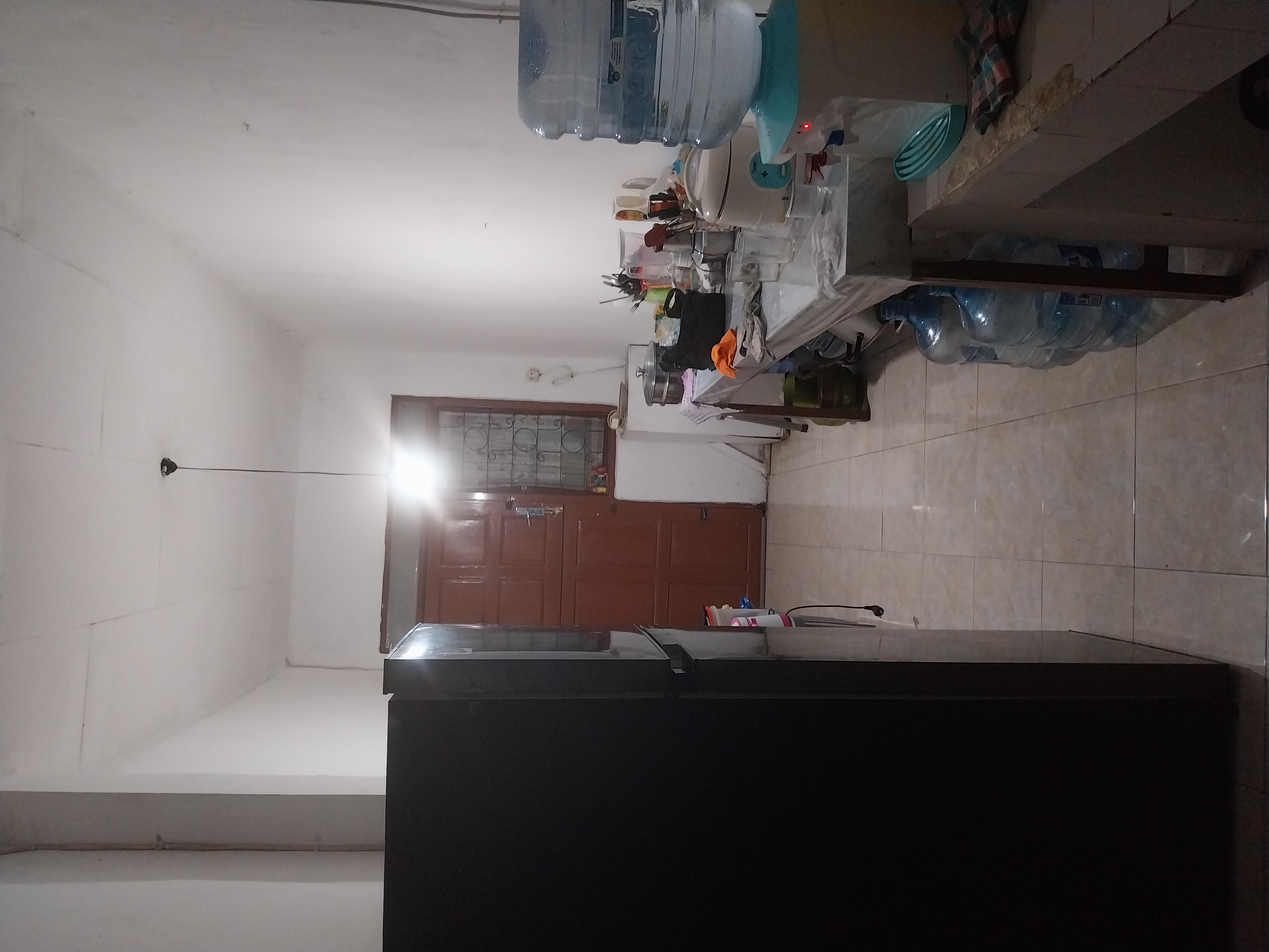door-stuff: (429, 314, 606, 572)
refrigerator: (0, 288, 436, 924)
table: (642, 478, 1200, 933), (833, 543, 889, 558)
towel: (1084, 708, 1269, 770), (784, 551, 893, 575), (765, 533, 830, 552)
